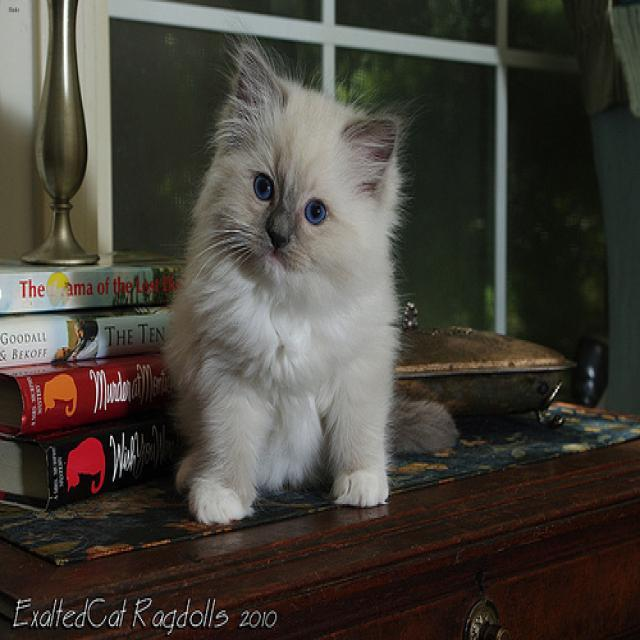Ragdoll: (196, 41, 406, 318)
